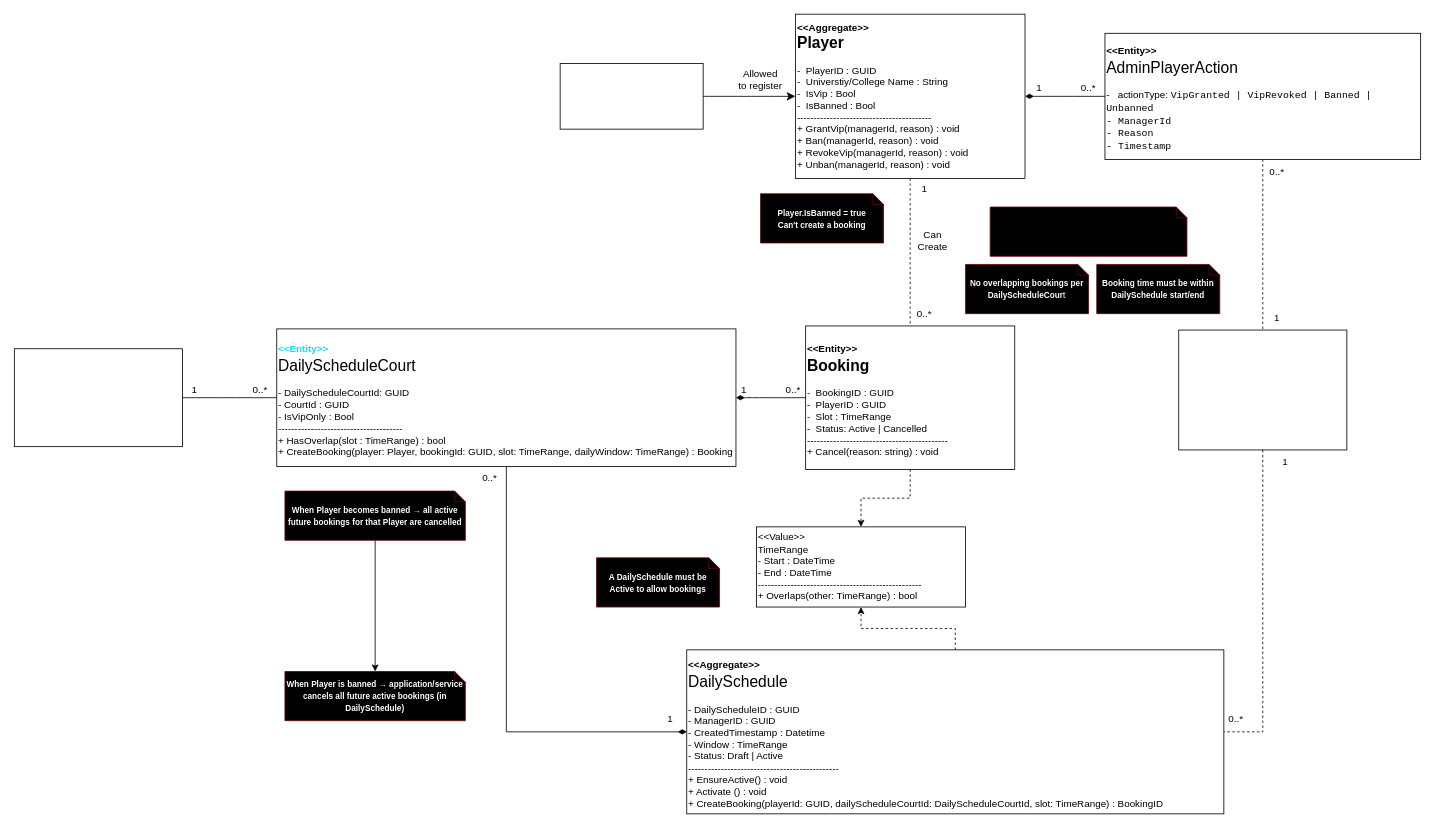
The diagram is 1435 pixels wide and 829 high, and some of its shapes have lost their labels. Here are the shapes that lost their labels. From the top down, the centre of each, then its label:
At [631,96]: "Anonymous".
At [1088,231]: "If DailyScheduleCourt.IsVipOnly = true Then player must be VIP".
At [98,397]: "<<Aggregate>> Court - CourtID : GUID - CourtName : String".
At [1262,389]: "<<Aggregate>> Manager -ManagerID : GUID -PadelCompanyName : String".
